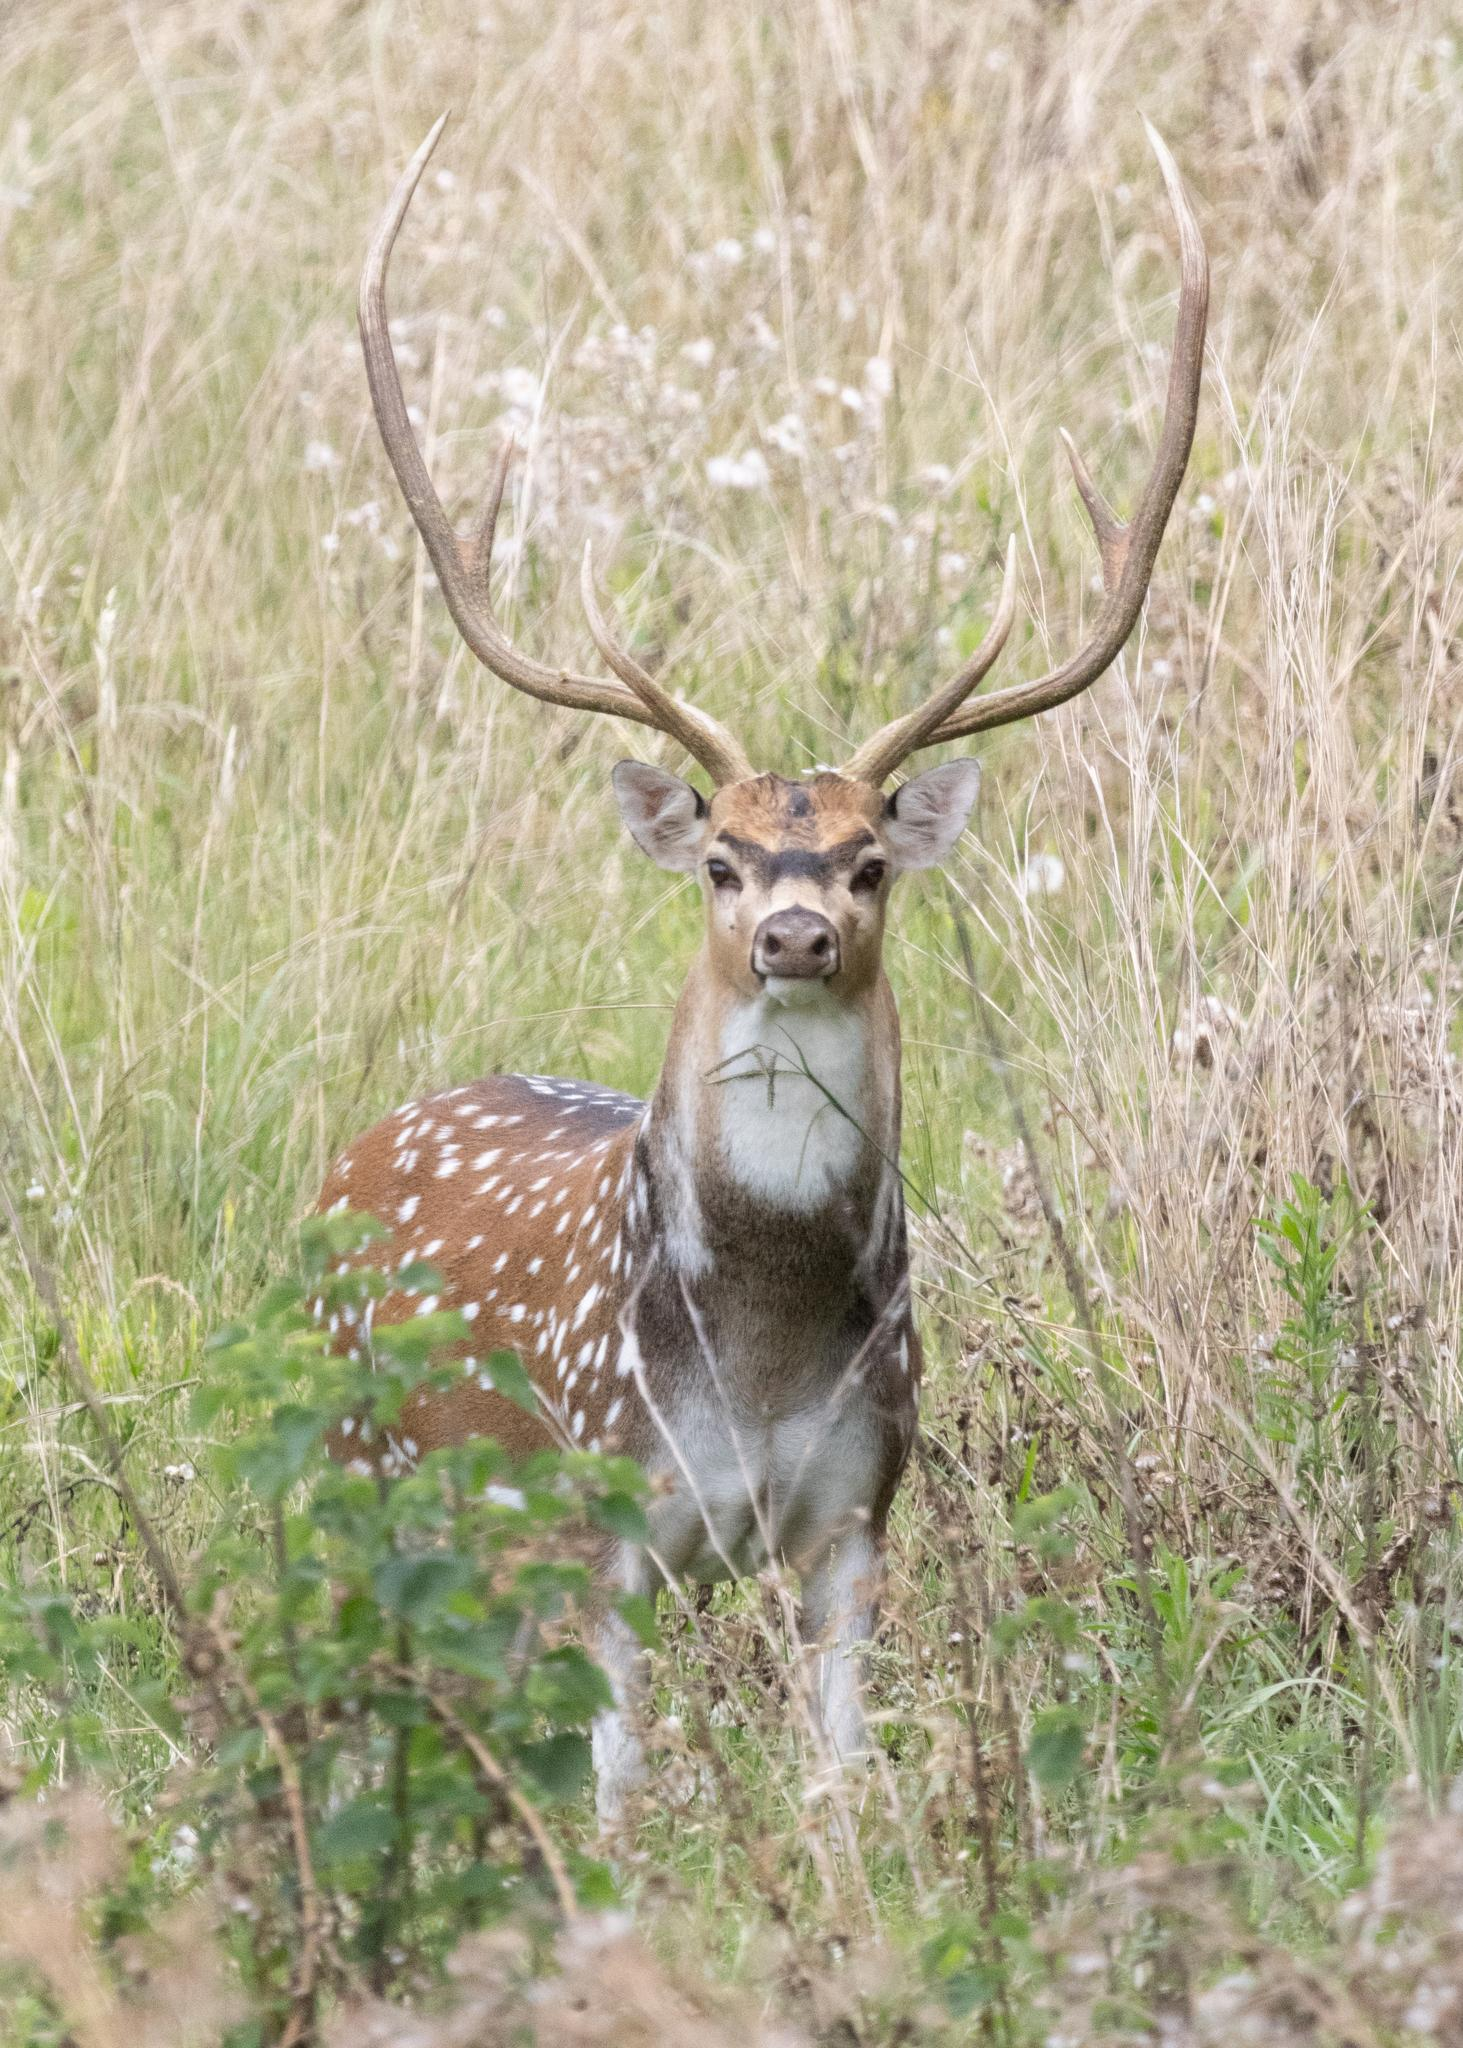Deer: (321, 116, 1208, 1830)
